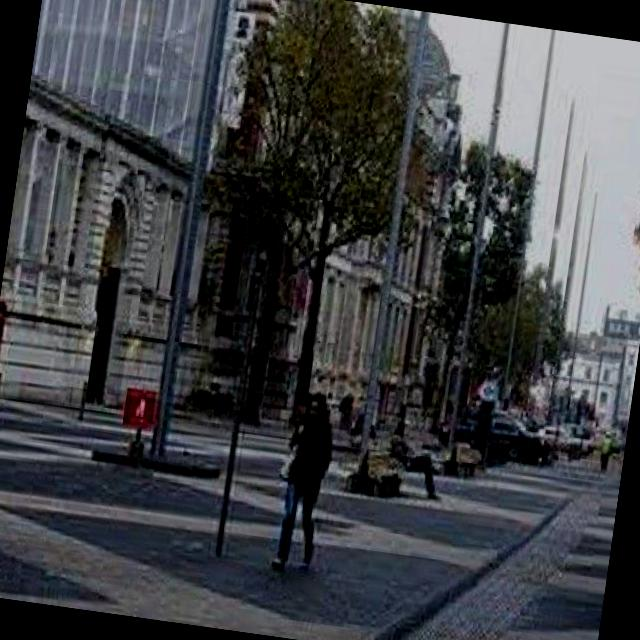Person: (257, 380, 347, 584)
